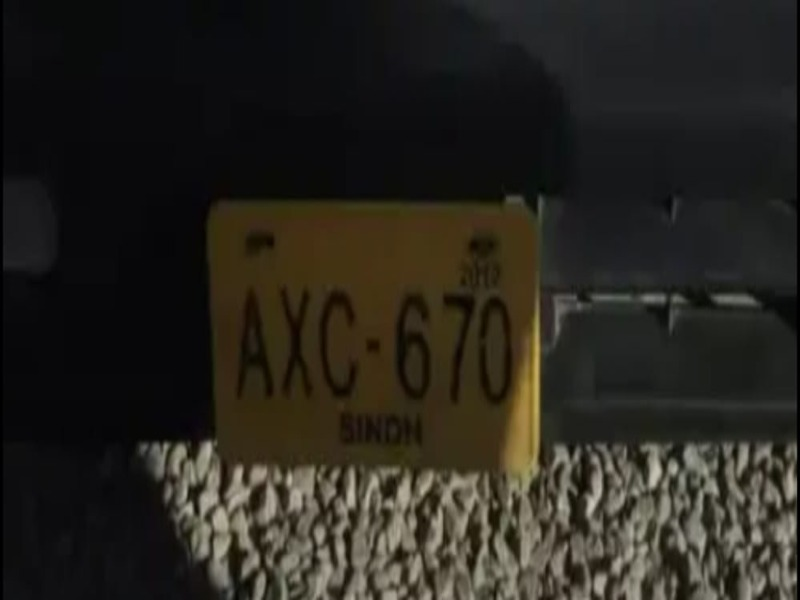License Plate: (199, 194, 538, 474)
